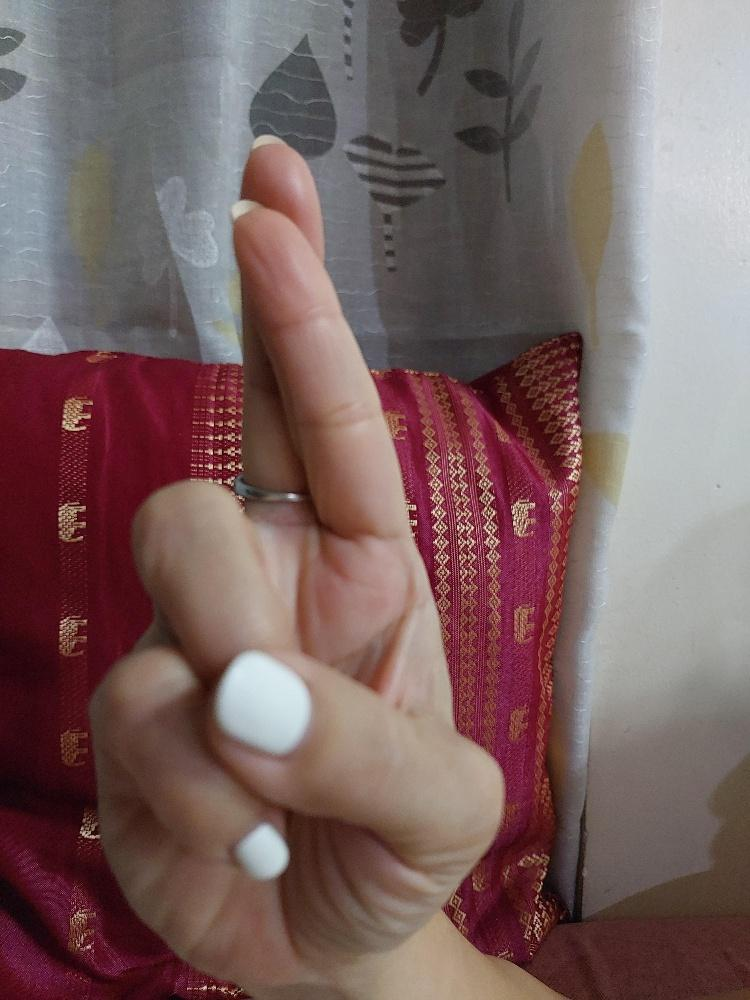r: (85, 126, 506, 985)
